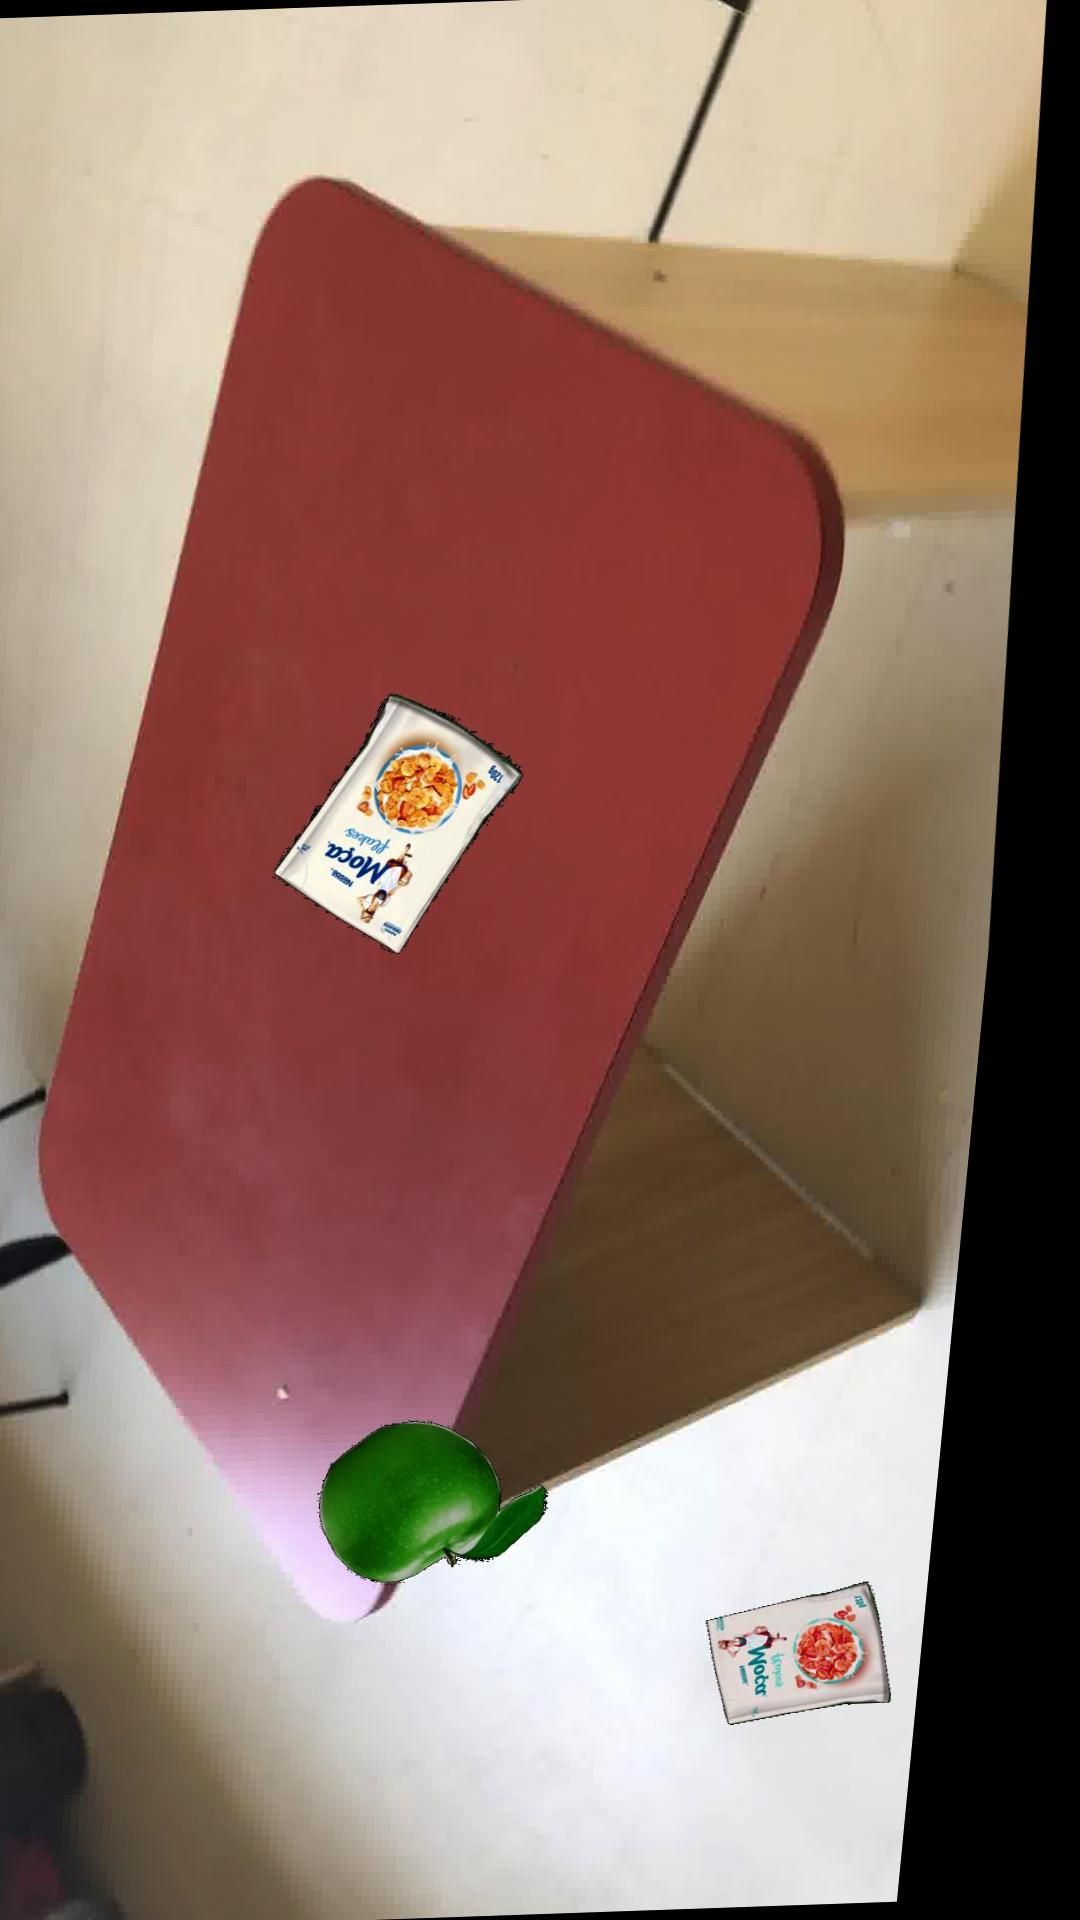corn flakes: (293, 692, 541, 952), (741, 1580, 927, 1724)
green apple: (351, 1419, 580, 1581)
